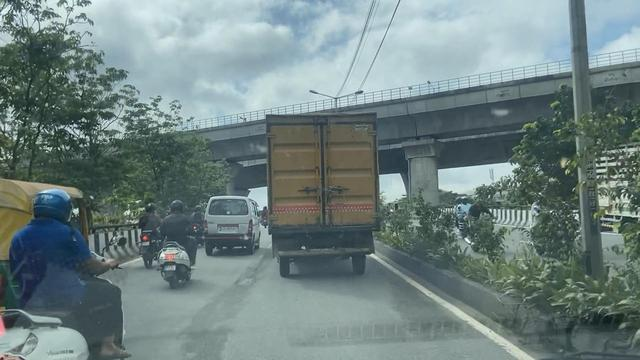HMV: (267, 110, 374, 280)
LMV: (203, 198, 252, 257), (159, 198, 191, 288)
